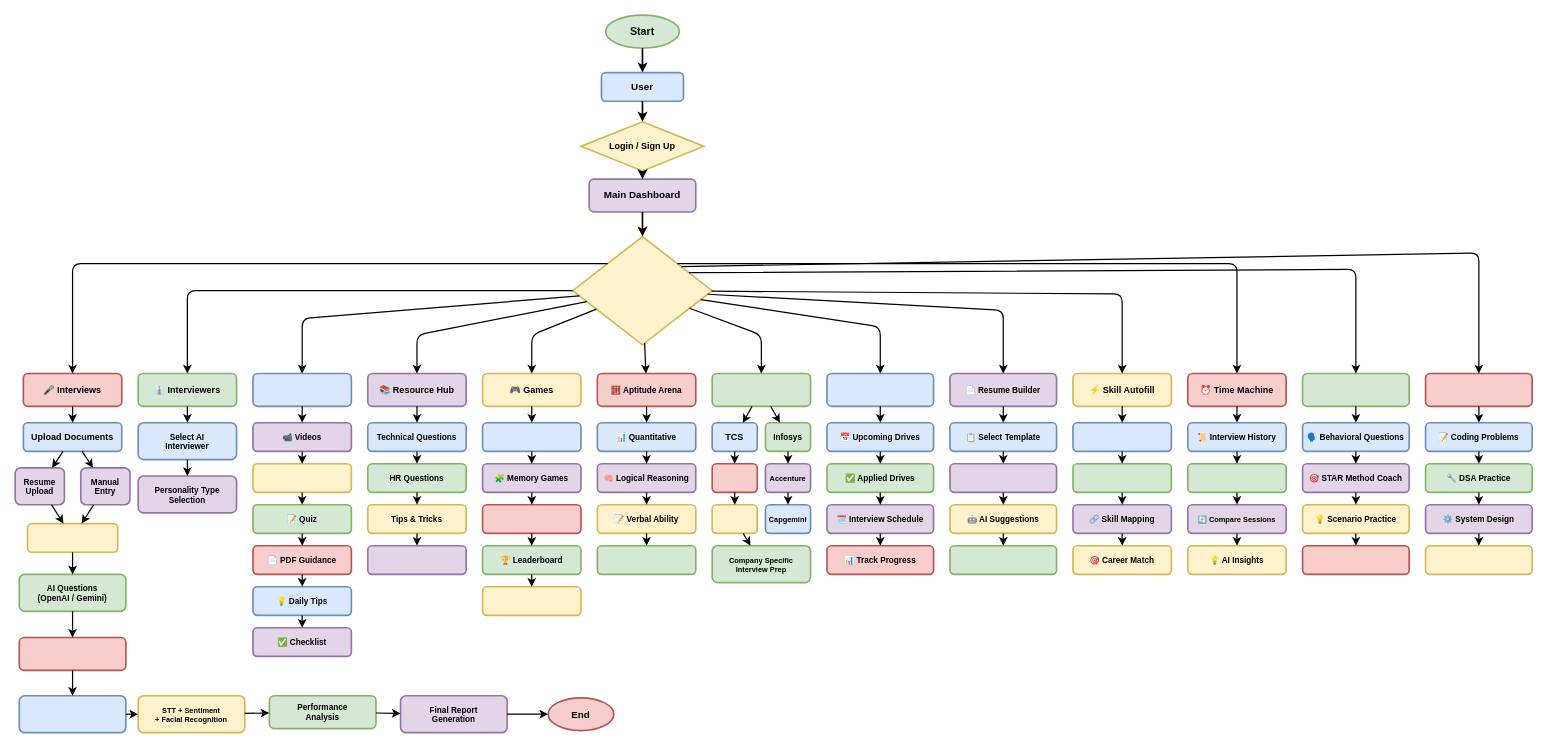
The diagram is 1547 pixels wide and 747 high, and some of its shapes have lost their labels. The shapes that lost their labels are listed below. From the top down, each one's centre as x and y in pixels, then its label:
the point at 642,290: Choose Feature
the point at 302,389: 💬 Soft Skills
the point at 761,389: 🏢 Dream Company
the point at 880,389: 📋 Placement Drives
the point at 1355,389: 💼 HR Interview Coach
the point at 1478,389: 💻 Tech Practice
the point at 531,436: 🎯 Word Games
the point at 1122,436: 📄 Resume Parsing
the point at 302,477: 🖼️ Image Guide
the point at 734,477: Wipro
the point at 1003,477: ✏️ Fill Details
the point at 1122,477: ⚡ Auto-fill Skills
the point at 1237,477: 📈 Progress Over Time
the point at 72,537: NLP Extraction
the point at 531,518: ❓ Quiz Challenge
the point at 734,518: Cognizant
the point at 417,559: Study Materials
the point at 646,559: 📈 Score Tracking
the point at 1003,559: ⬇️ Download PDF
the point at 1355,559: 📊 HR Feedback
the point at 1478,559: 📈 Code Analytics
the point at 531,600: 📊 Score & Progress
the point at 72,653: Interview Session Created
the point at 72,714: Real-time Voice Interview
